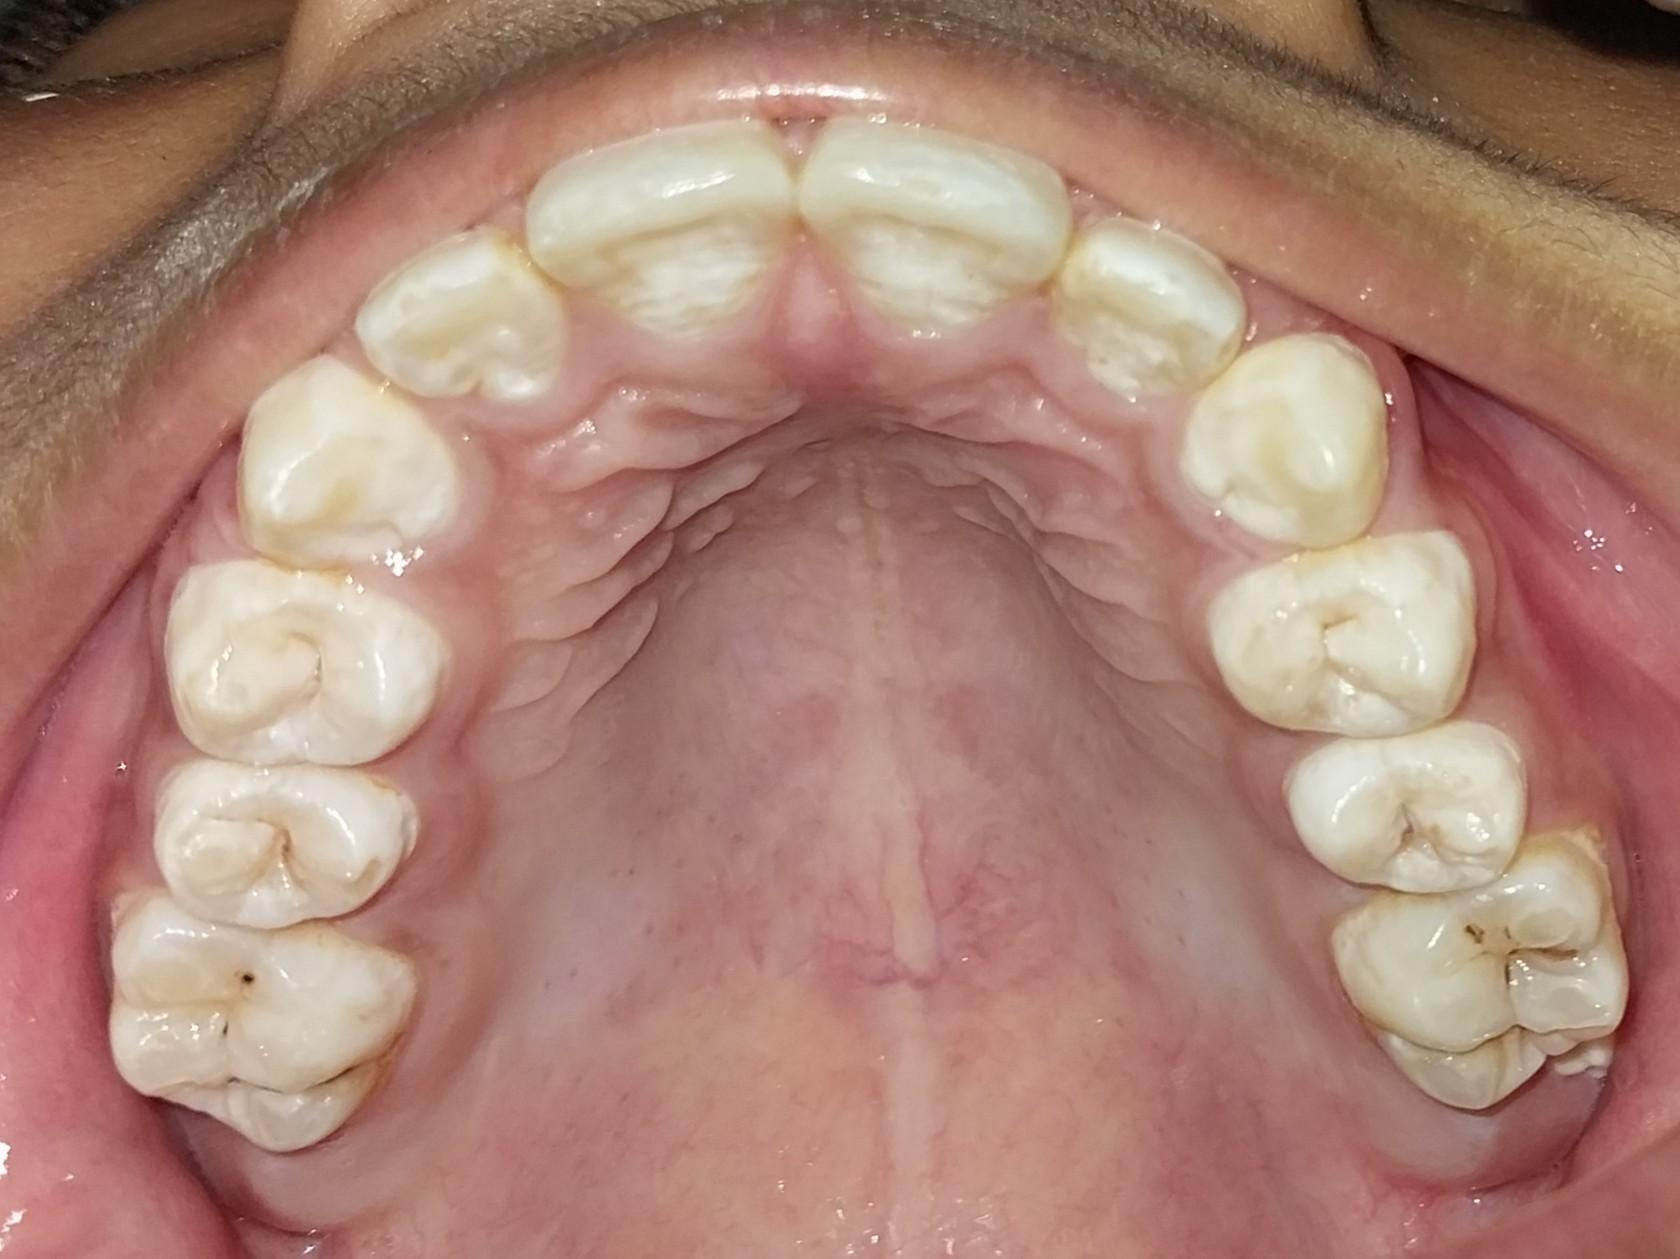D: (85, 884, 409, 1143), (1330, 839, 1627, 1119), (143, 759, 424, 937), (1283, 722, 1540, 907)
